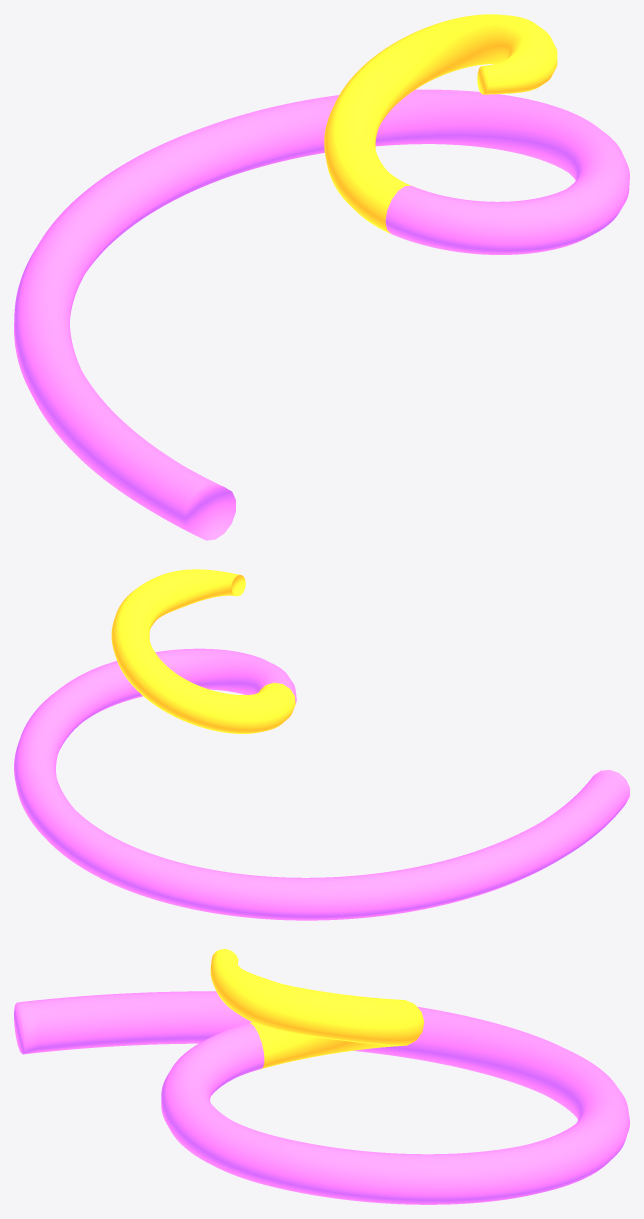
The model's file is squalodon_noodle.glb.
3 renders of one model, top to bottom at view 1: azimuth 30°, elevation 25°; view 2: azimuth 150°, elevation 25°; view 3: azimuth 270°, elevation 25°, orthographic. The views are drawn at different scales.
Parts seen in each view (by area): view 1: Squalodon | TURN COUNT NOODLE | T00_100, Squalodon | TURN COUNT NOODLE | T100_200; view 2: Squalodon | TURN COUNT NOODLE | T00_100, Squalodon | TURN COUNT NOODLE | T100_200; view 3: Squalodon | TURN COUNT NOODLE | T00_100, Squalodon | TURN COUNT NOODLE | T100_200.
Boxes of the visible parts, x1=… form: Squalodon | TURN COUNT NOODLE | T00_100: x1=14, y1=89, x2=629, y2=540; Squalodon | TURN COUNT NOODLE | T100_200: x1=324, y1=14, x2=557, y2=233; Squalodon | TURN COUNT NOODLE | T00_100: x1=14, y1=648, x2=629, y2=920; Squalodon | TURN COUNT NOODLE | T100_200: x1=111, y1=569, x2=295, y2=733; Squalodon | TURN COUNT NOODLE | T00_100: x1=14, y1=991, x2=629, y2=1204; Squalodon | TURN COUNT NOODLE | T100_200: x1=210, y1=949, x2=424, y2=1068.
Bounding box in the file's own units: 7.48 × 3.52 × 7.18.
